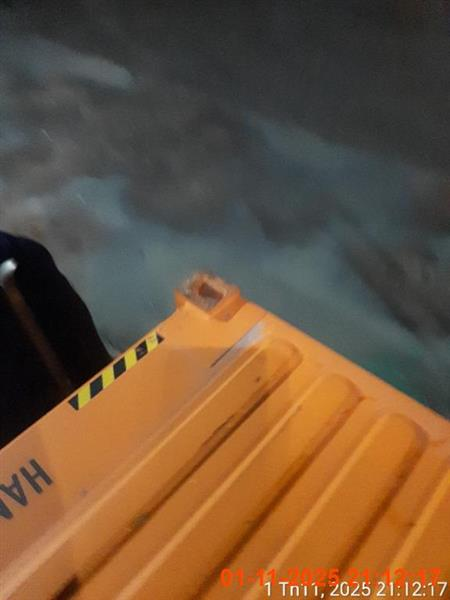broken: (0, 229, 114, 446)
